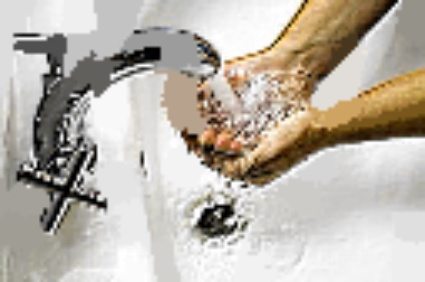washing hand: (41, 20, 365, 258)
